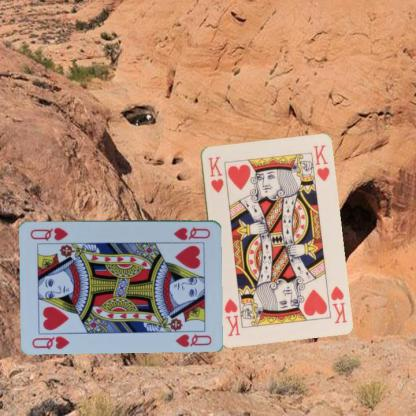Kh: (327, 283, 348, 325), (205, 154, 225, 194)
Qh: (171, 223, 212, 242), (30, 334, 70, 350)
